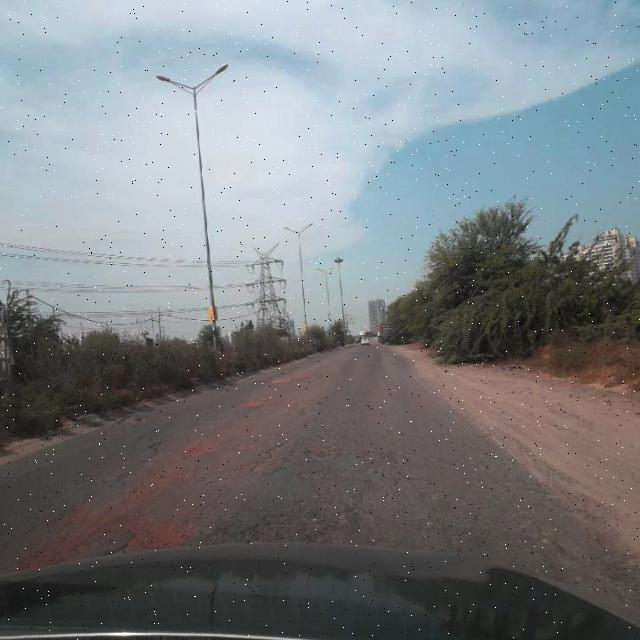D40: (8, 443, 215, 558), (234, 483, 369, 544), (252, 429, 340, 473), (121, 509, 209, 553), (264, 368, 308, 388), (229, 393, 273, 412)
